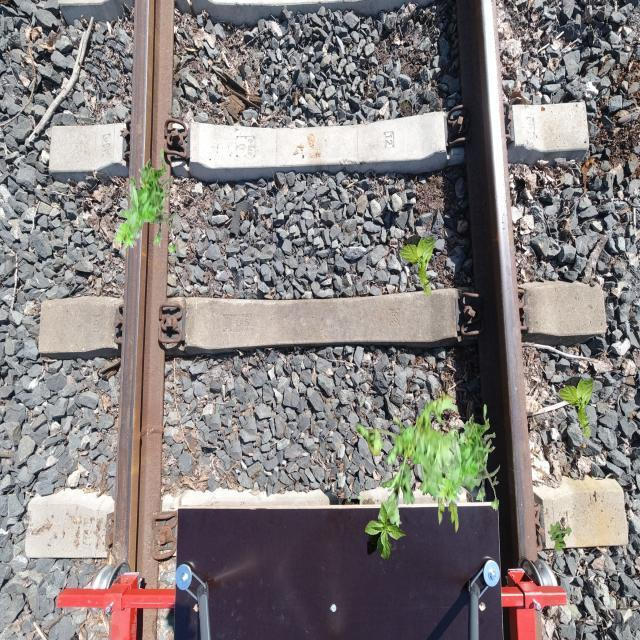Plant: (357, 388, 482, 535), (436, 404, 501, 512), (113, 148, 178, 256), (365, 501, 407, 561), (558, 377, 594, 440), (399, 235, 434, 298), (548, 521, 572, 552)
